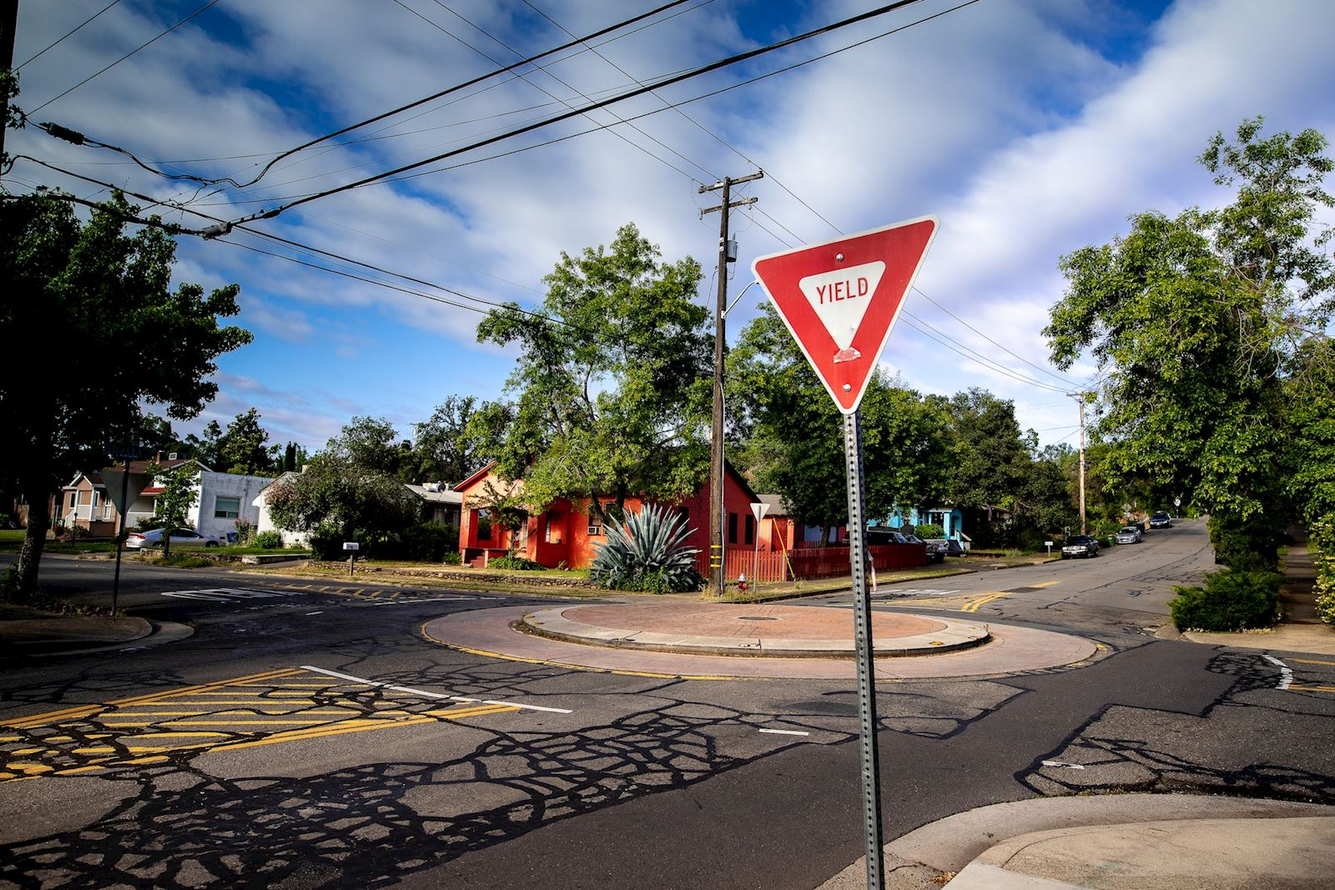Yield: (740, 251, 941, 425)
